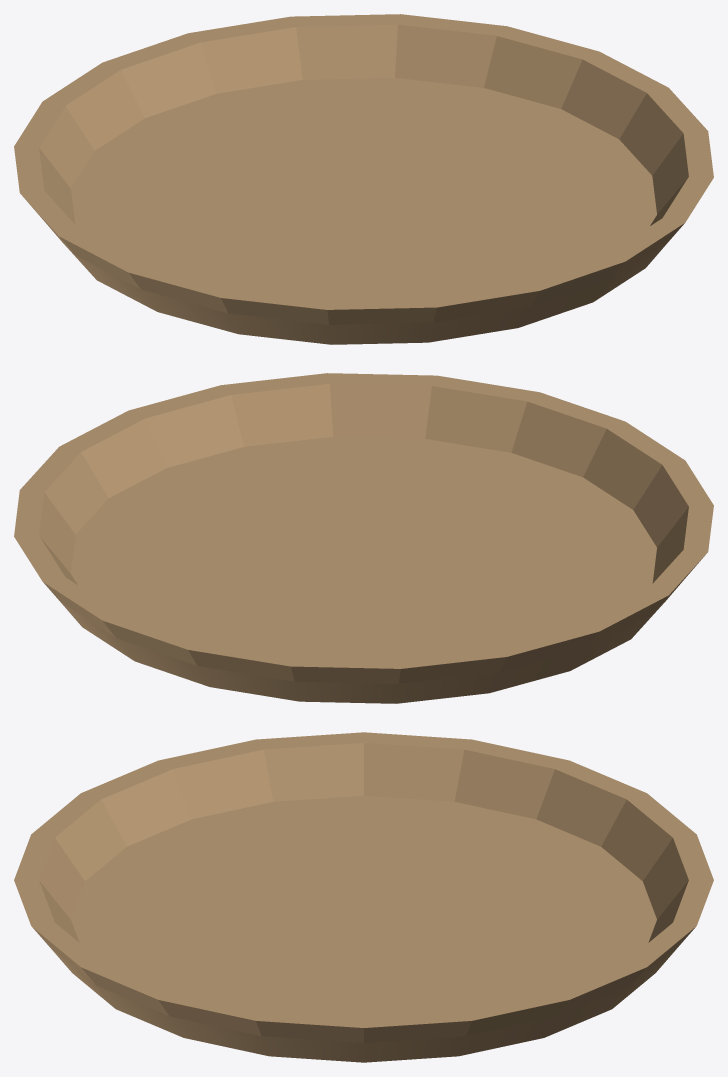
Rendered from Saucer.fbx.
3 renders of one model, top to bottom at view 1: azimuth 30°, elevation 25°; view 2: azimuth 150°, elevation 25°; view 3: azimuth 270°, elevation 25°, orthographic.
Parts seen in each view (by area): view 1: Saucer; view 2: Saucer; view 3: Saucer.
Part boxes in pixels (x1,y1,x2,y2): Saucer: (14,14,713,344); Saucer: (14,373,713,703); Saucer: (14,732,713,1062).
Size of the model in its own units: 21.13 by 1.76 by 21.13.
